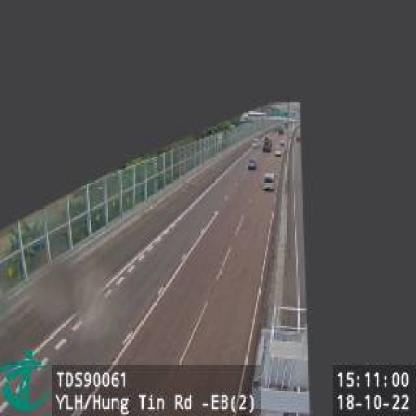Car: (262, 173, 274, 192), (246, 159, 257, 171)
Truck: (262, 136, 272, 152)
